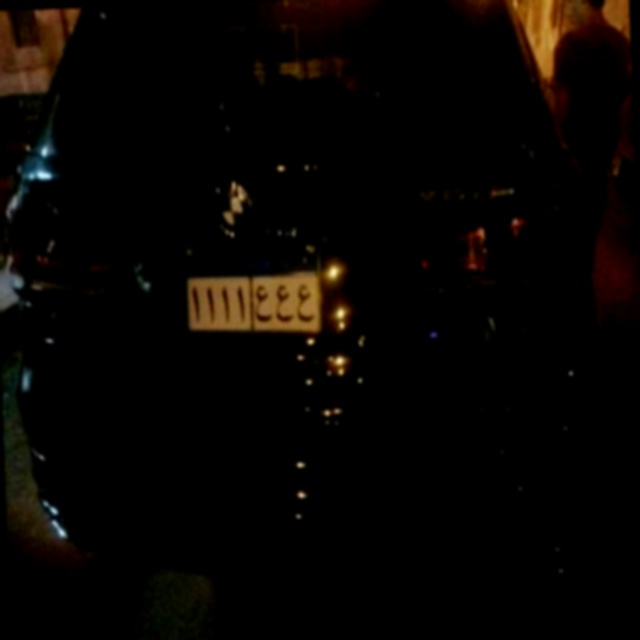License Plate: (180, 242, 325, 344)
